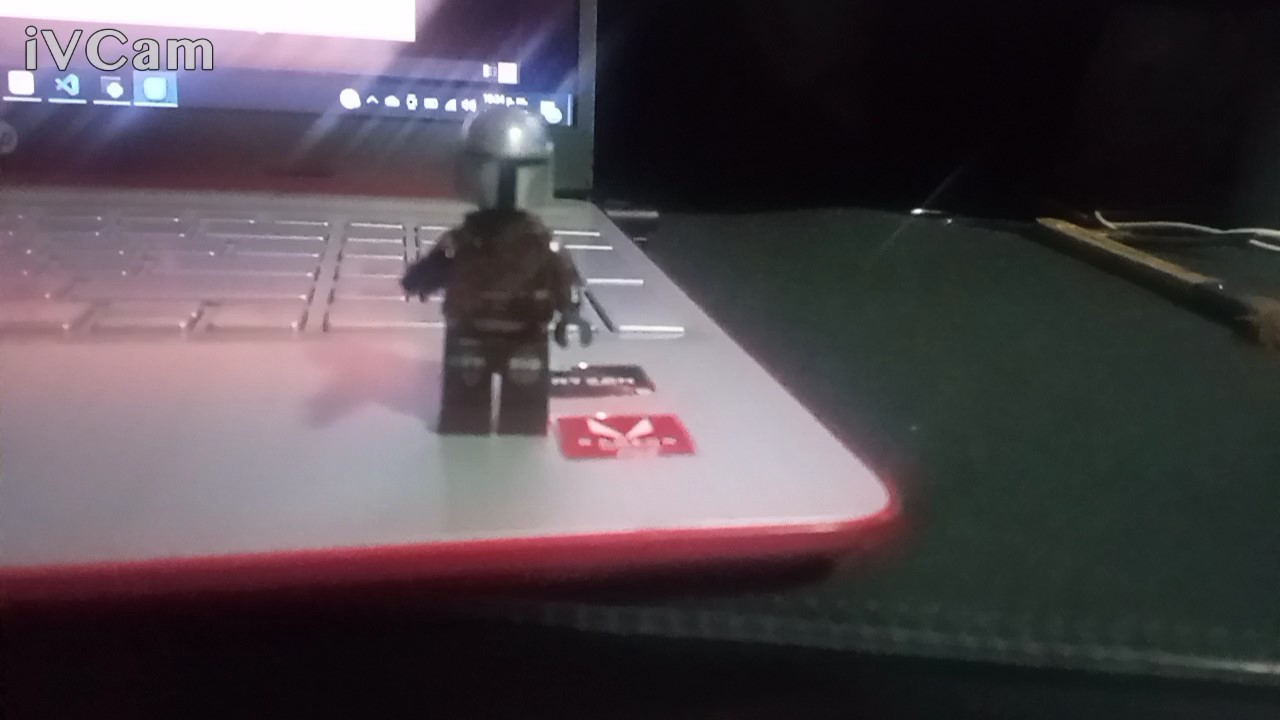mandalorian: (403, 93, 623, 451)
